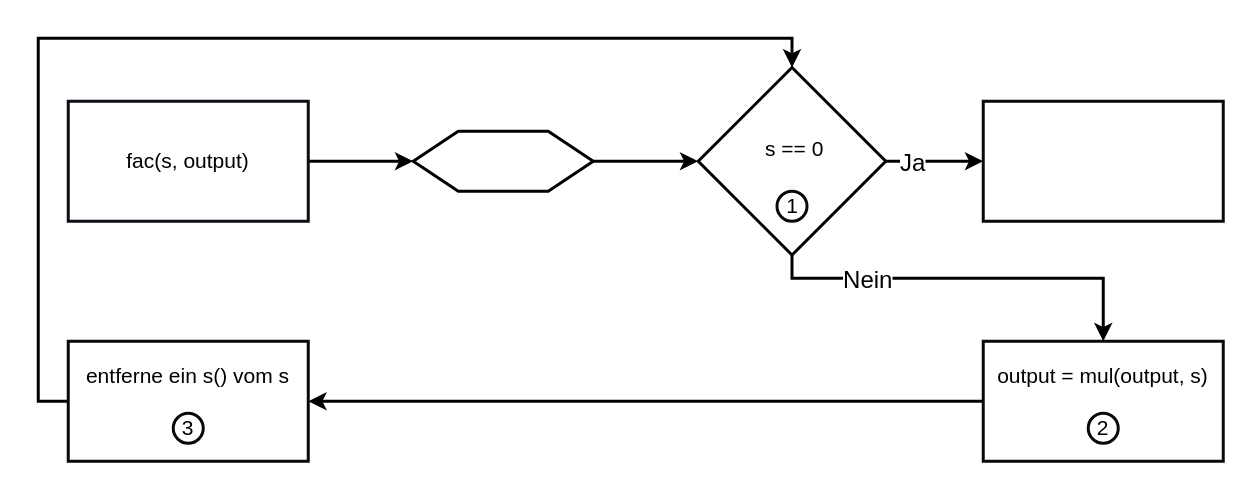
This 1250x488 diagram has some shape labels left out. The shapes that lost their labels are listed below. From the top down, each one's centre as x and y in pixels, then its label:
point (502, 160): output = s(0)
point (1102, 160): gebe output zurück
